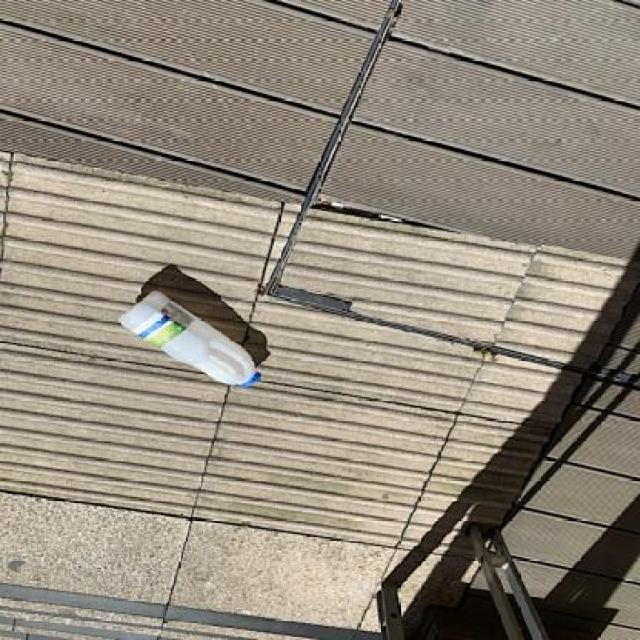trash: (115, 293, 268, 395)
